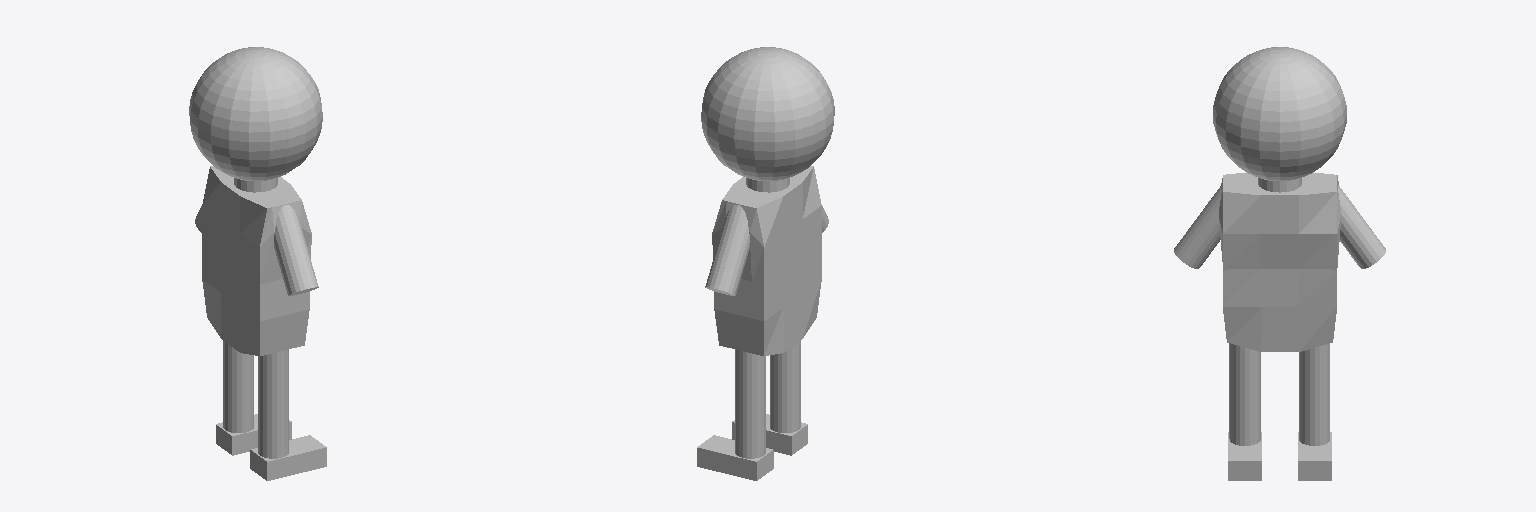
Rendered from Placeholder NPC.obj.
The picture shows the model from 3 angles: view 1: azimuth 30°, elevation 25°; view 2: azimuth 150°, elevation 25°; view 3: azimuth 270°, elevation 25°; orthographic projection.
Parts seen in each view (by area): view 1: pCylinder6; view 2: pCylinder6; view 3: pCylinder6.
Boxes of the visible parts, box(x1,y1,x2,y2) form: pCylinder6: box(189, 47, 326, 480); pCylinder6: box(697, 47, 834, 480); pCylinder6: box(1174, 47, 1385, 480).
Bounding box in the file's own units: 2 × 6.65 × 3.16.